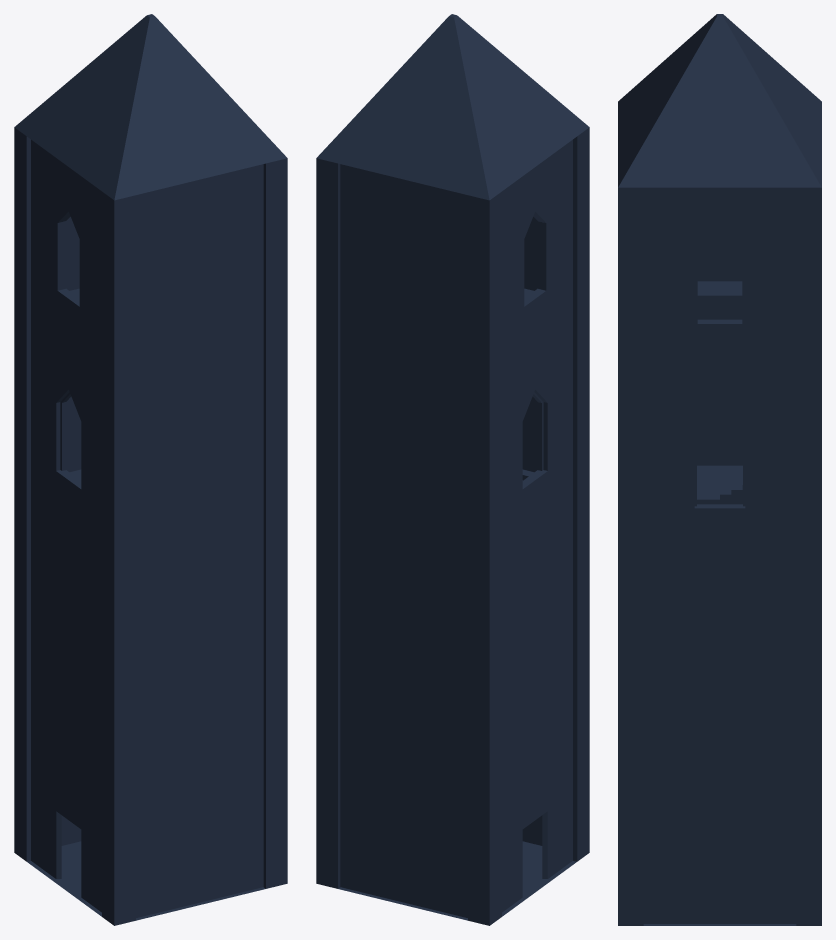
Rendered from belltowerOnly.fbx.
3 views of the same model, side by side, from view 1: azimuth 30°, elevation 25°; view 2: azimuth 150°, elevation 25°; view 3: azimuth 270°, elevation 25° (orthographic).
Parts seen in each view (by area): view 1: tower; view 2: tower; view 3: tower.
Boxes of the visible parts, <box> form: tower: <box>14,14,287,925</box>; tower: <box>316,14,589,925</box>; tower: <box>618,14,821,925</box>.
Size of the model in its own units: 10000 by 47000 by 10000.
